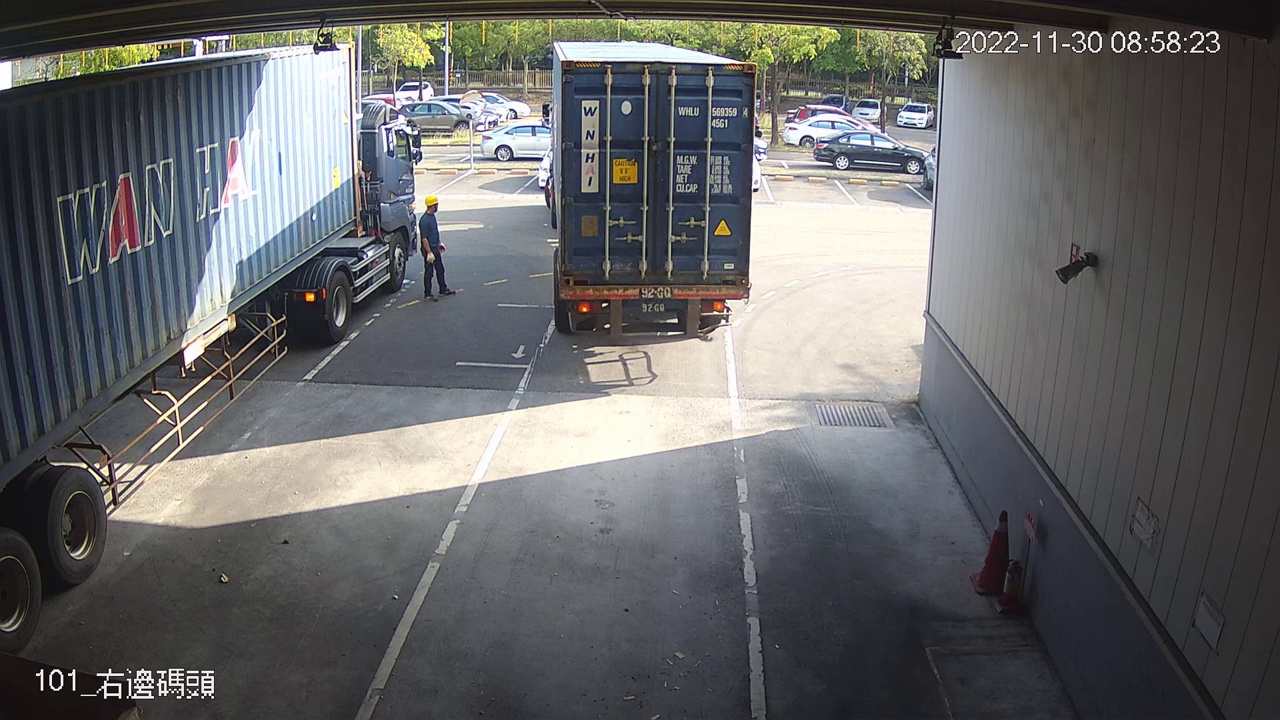container: (675, 102, 751, 132)
